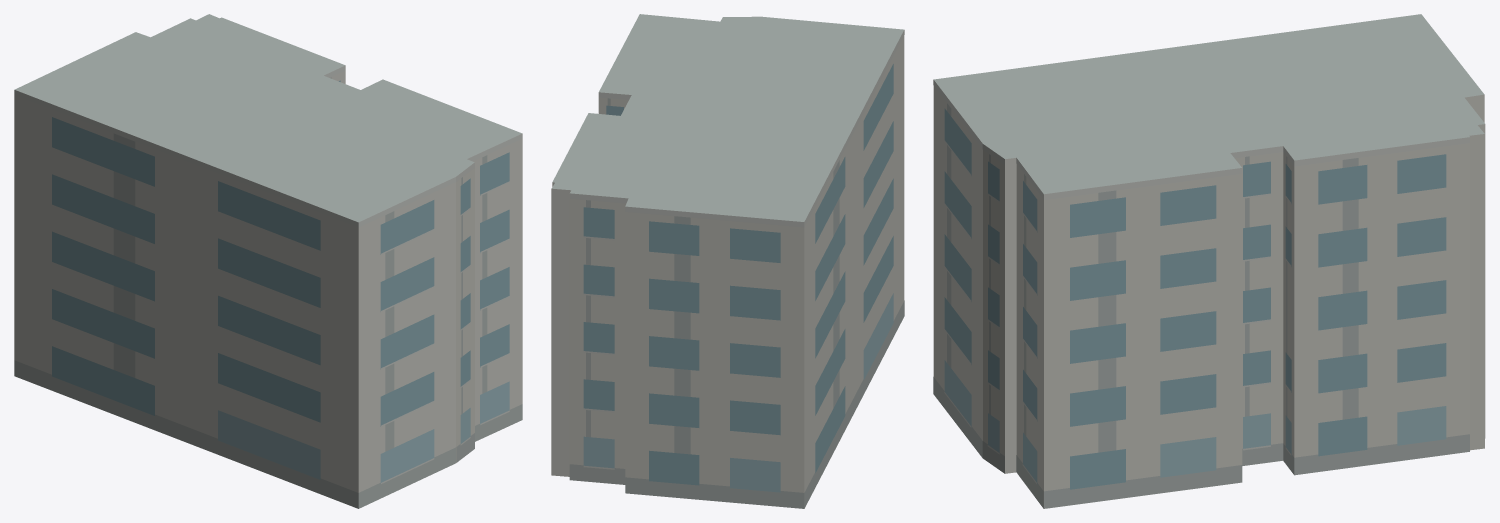
The model's file is survey-upis-32660807.glb.
3 views of the same model, side by side, from view 1: azimuth 30°, elevation 25°; view 2: azimuth 150°, elevation 25°; view 3: azimuth 270°, elevation 25° (orthographic). The views are drawn at different scales.
Visible parts, largest first — view 1: survey-upis-32660807.tmp; view 2: survey-upis-32660807.tmp; view 3: survey-upis-32660807.tmp.
Boxes of the visible parts, <box> form: survey-upis-32660807.tmp: <box>14,14,522,508</box>; survey-upis-32660807.tmp: <box>551,14,904,508</box>; survey-upis-32660807.tmp: <box>933,14,1485,508</box>.
Bounding box in the file's own units: 16.1 × 13.1 × 20.83.
